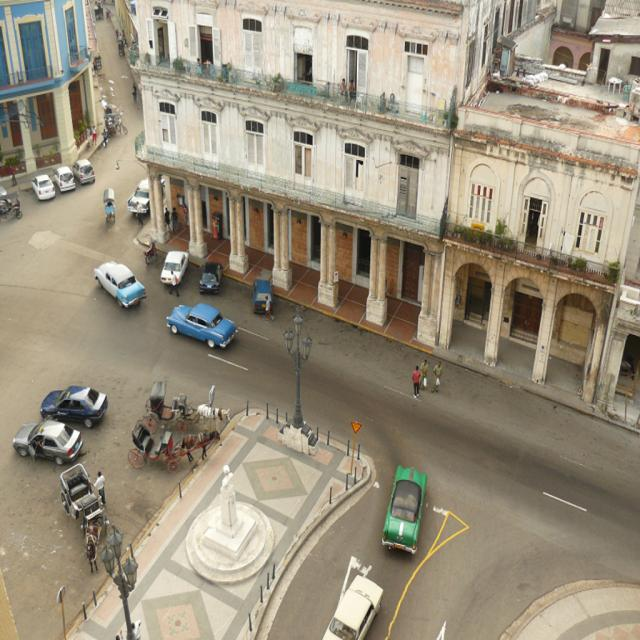car: (158, 301, 241, 352), (386, 458, 424, 557), (37, 378, 112, 428), (7, 416, 86, 462), (90, 253, 149, 309), (157, 246, 189, 286), (196, 255, 226, 291), (52, 161, 78, 198), (250, 279, 278, 313), (72, 158, 100, 187), (32, 173, 55, 199)
